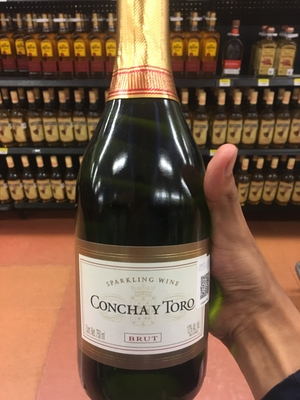brut: (63, 17, 225, 400)
